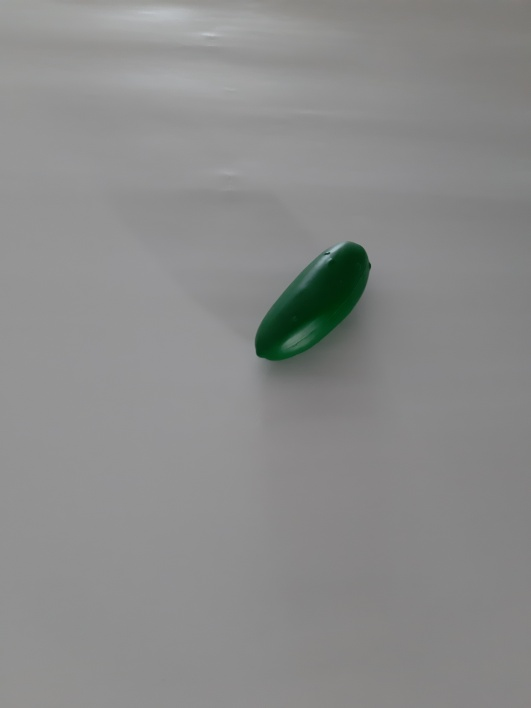cucumber: (244, 224, 384, 392)
